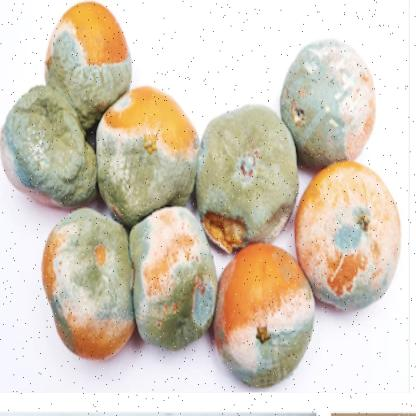rotten: (4, 1, 400, 390)
